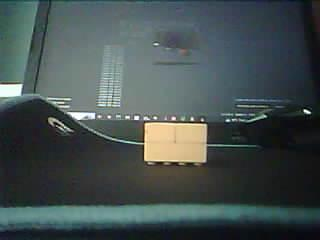lego: (143, 122, 208, 168)
